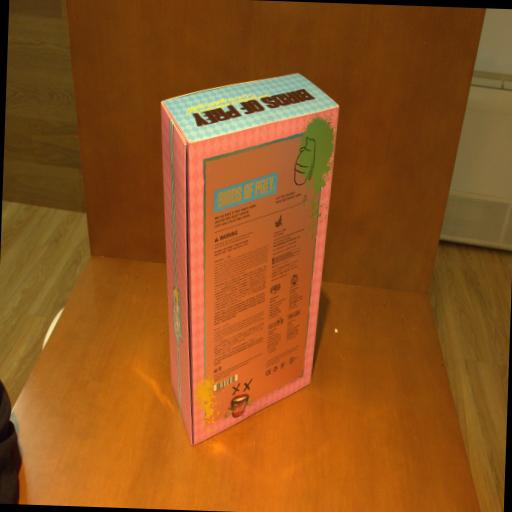Harley: (148, 67, 339, 450)
